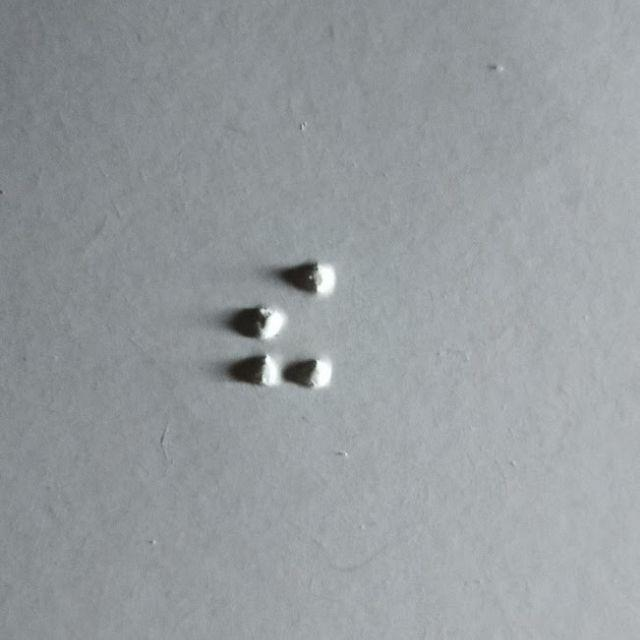ang: (229, 260, 335, 391)
